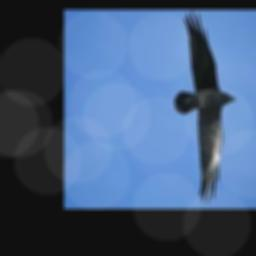Crow: (173, 9, 236, 202)
